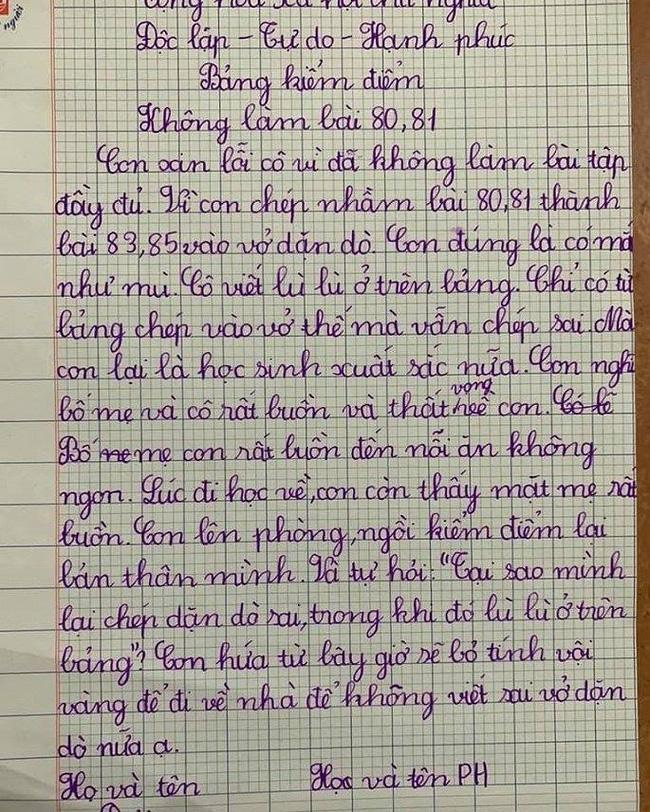text: (57, 463, 639, 521), (54, 301, 633, 357), (55, 507, 611, 562), (57, 676, 629, 729), (54, 178, 623, 231), (56, 590, 629, 642), (92, 137, 630, 192), (56, 219, 635, 270), (57, 634, 597, 688), (57, 259, 634, 309), (55, 341, 636, 390), (55, 377, 621, 426), (56, 545, 632, 592), (56, 425, 599, 474), (134, 18, 520, 64), (135, 98, 440, 149), (196, 55, 426, 108), (141, 0, 502, 23), (306, 758, 490, 797), (57, 767, 203, 802), (56, 725, 181, 761)
